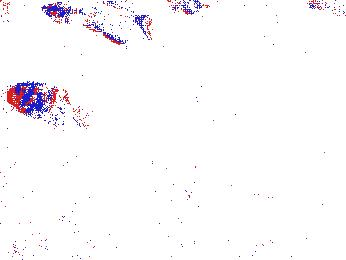X-ray fish: (212, 97, 288, 139)
redtail glassfish: (43, 1, 159, 47), (4, 76, 88, 133)
